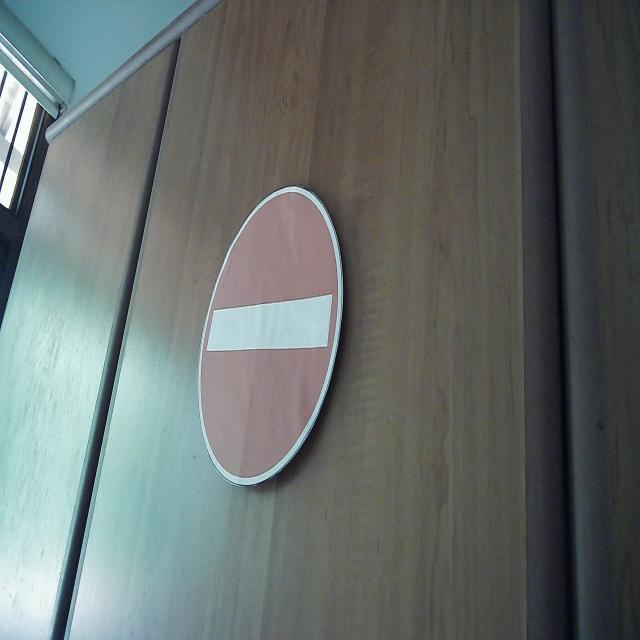no_entry: (198, 185, 346, 490)
